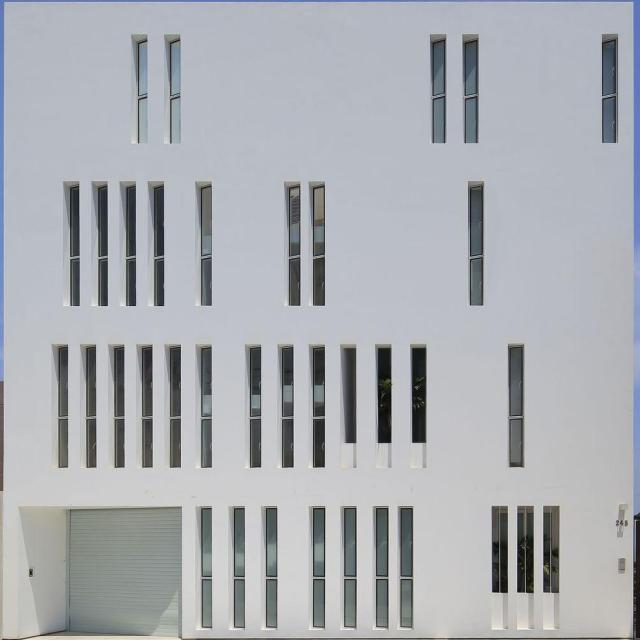door: (69, 509, 182, 639)
window: (262, 506, 278, 629), (311, 506, 326, 630), (343, 505, 357, 630), (374, 506, 388, 629), (399, 508, 413, 629), (249, 346, 262, 469), (313, 185, 326, 307), (510, 346, 523, 467), (465, 37, 479, 142), (432, 39, 446, 142), (153, 184, 165, 304), (288, 186, 300, 305), (471, 185, 483, 304), (377, 344, 391, 444), (411, 350, 426, 442), (516, 507, 532, 593), (126, 183, 137, 306), (70, 185, 81, 303), (491, 506, 506, 592), (543, 506, 558, 592), (233, 505, 243, 629), (282, 346, 292, 469), (604, 40, 616, 142), (97, 185, 107, 307), (201, 185, 211, 307), (59, 346, 69, 468), (201, 508, 211, 630), (136, 41, 148, 142), (87, 347, 97, 468), (315, 346, 325, 467), (202, 346, 212, 466), (170, 39, 181, 142), (142, 344, 151, 469), (114, 347, 123, 468), (171, 348, 180, 467), (346, 346, 355, 443)
